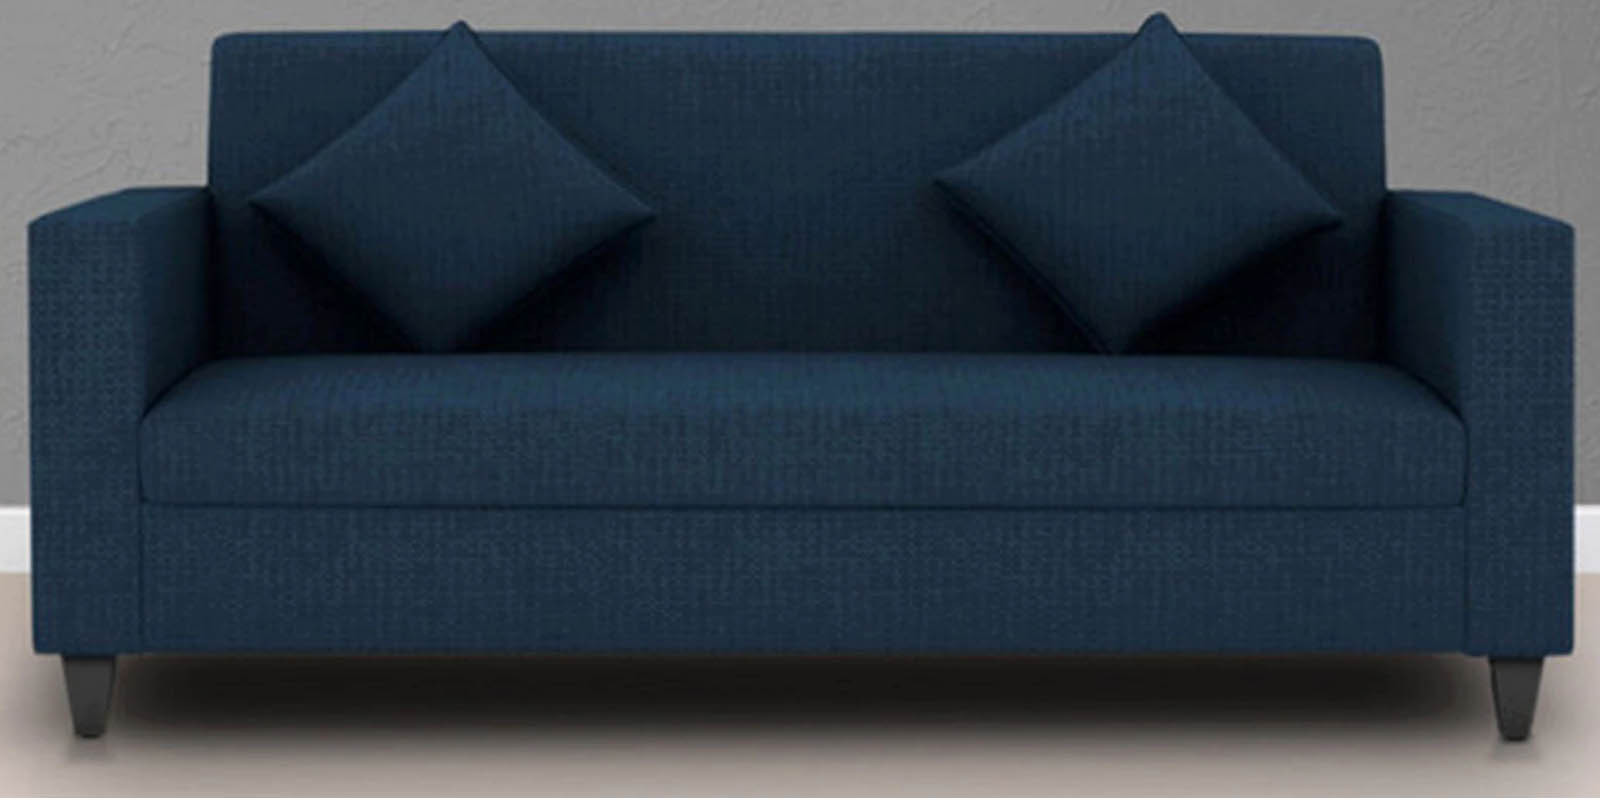Cooper Three Seater Sofa in Royal Blue Colour by ARRA: (19, 19, 1582, 707)
